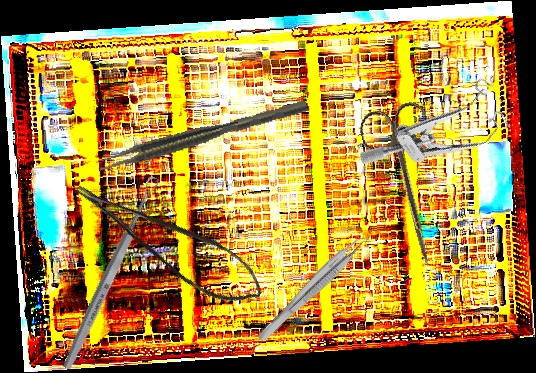Iris Scissors: (356, 98, 464, 274)
Micro Scissor: (71, 152, 272, 324)
Speculum: (356, 62, 525, 211)
Surgical Spoon: (60, 174, 162, 372)
Tissue Forceps: (96, 99, 310, 174), (255, 228, 373, 350)
